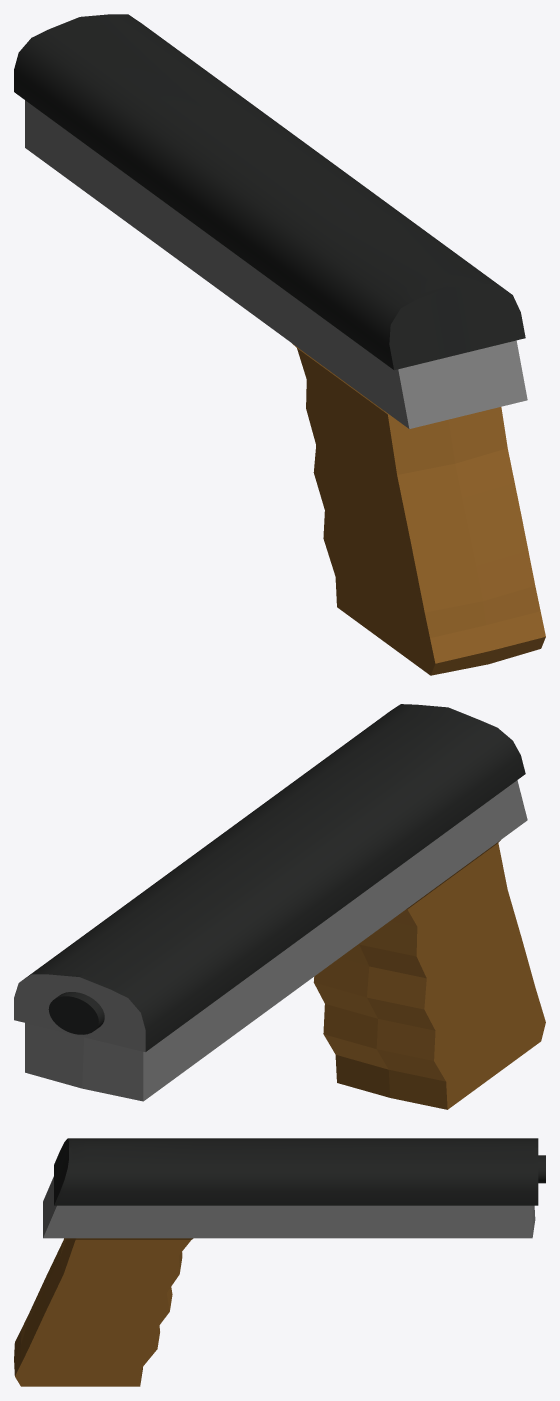
The model's file is Pistol.fbx.
The picture shows the model from 3 angles, top to bottom: view 1: azimuth 30°, elevation 25°; view 2: azimuth 150°, elevation 25°; view 3: azimuth 270°, elevation 25°; orthographic projection. The views are drawn at different scales.
Visible parts, largest first — view 1: Gun; view 2: Gun; view 3: Gun.
Part boxes in pixels (x1=…): Gun: x1=14, y1=14, x2=545, y2=675; Gun: x1=14, y1=704, x2=545, y2=1109; Gun: x1=14, y1=1138, x2=545, y2=1386.
Size of the model in its own units: 0.2489 by 1.37 by 0.6292.
